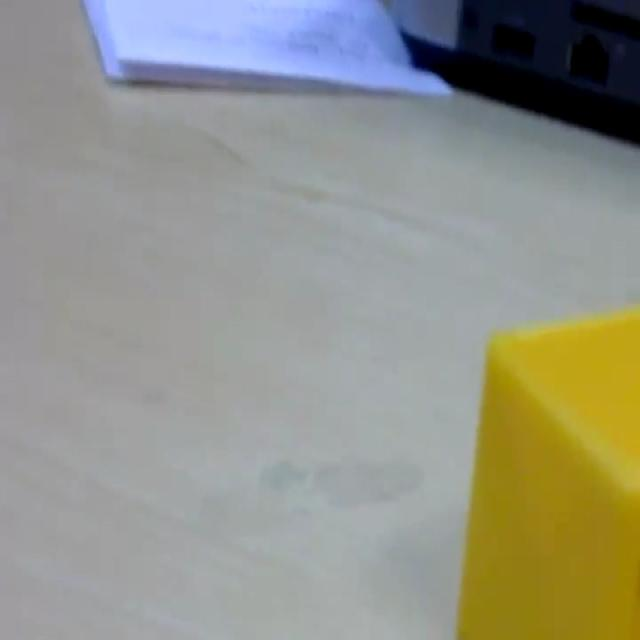yellow_block: (454, 303, 638, 636)
